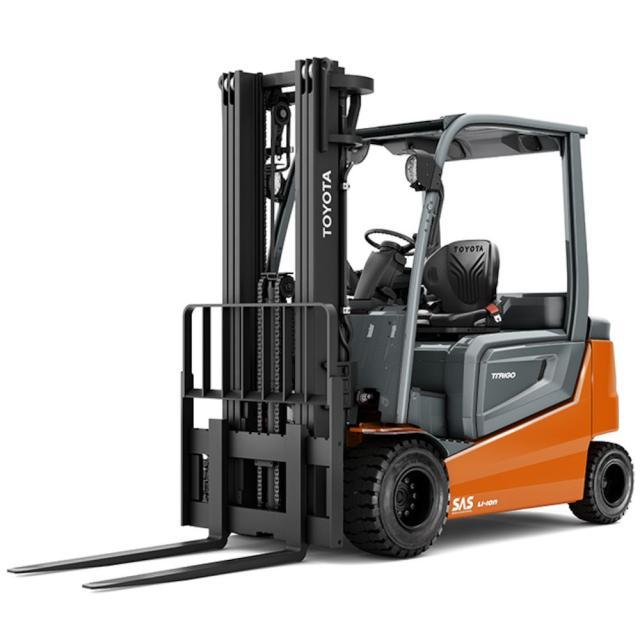forklift: (154, 70, 632, 583)
